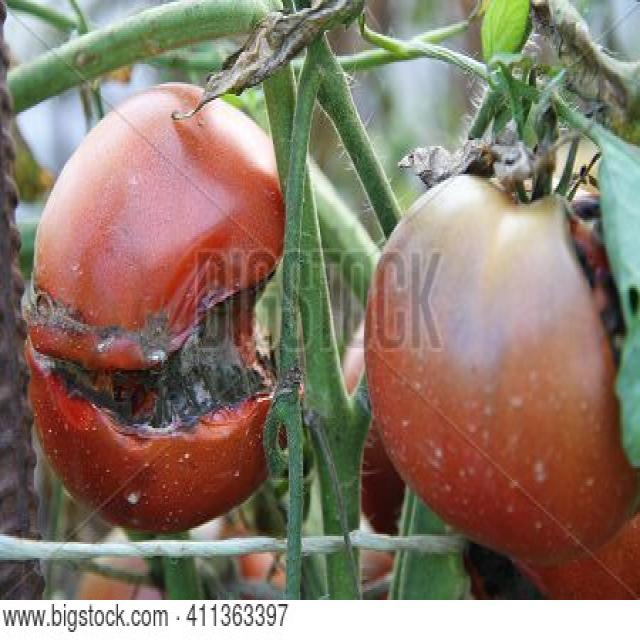overripe tomato: (0, 64, 341, 580)
